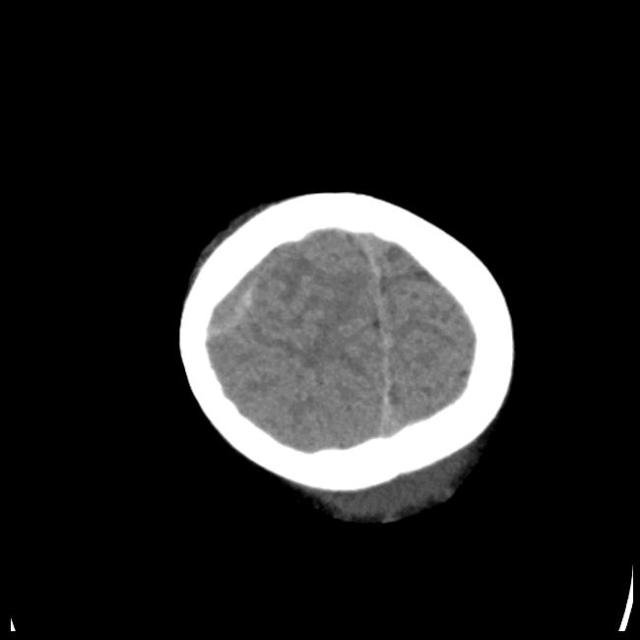lesion: (172, 183, 522, 528)
